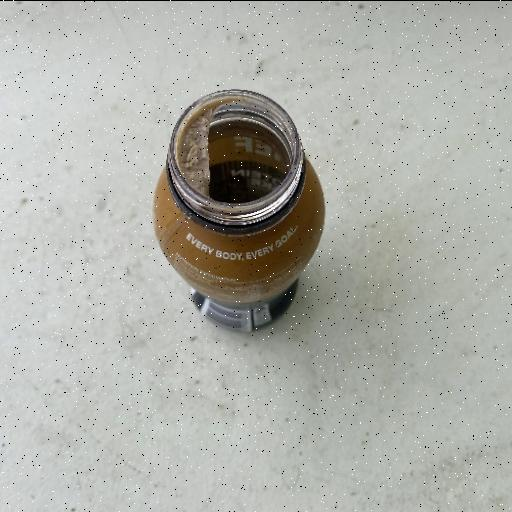Plastic: (148, 86, 328, 335)
